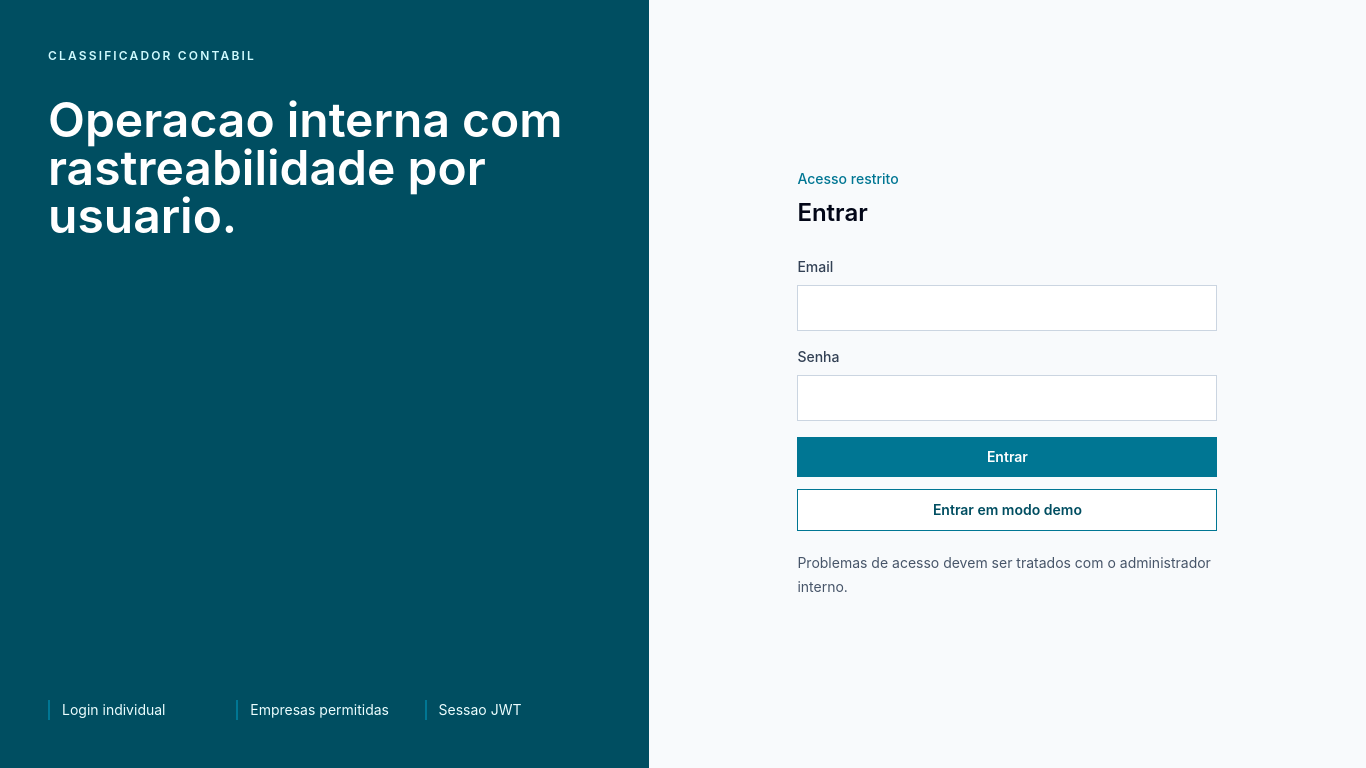
Scenario: LoginPage › exibe orientacao para erro de rede
Type "operador@interno.test" into the field labelled "Email" at (1007, 308), box [797,285,1217,331]
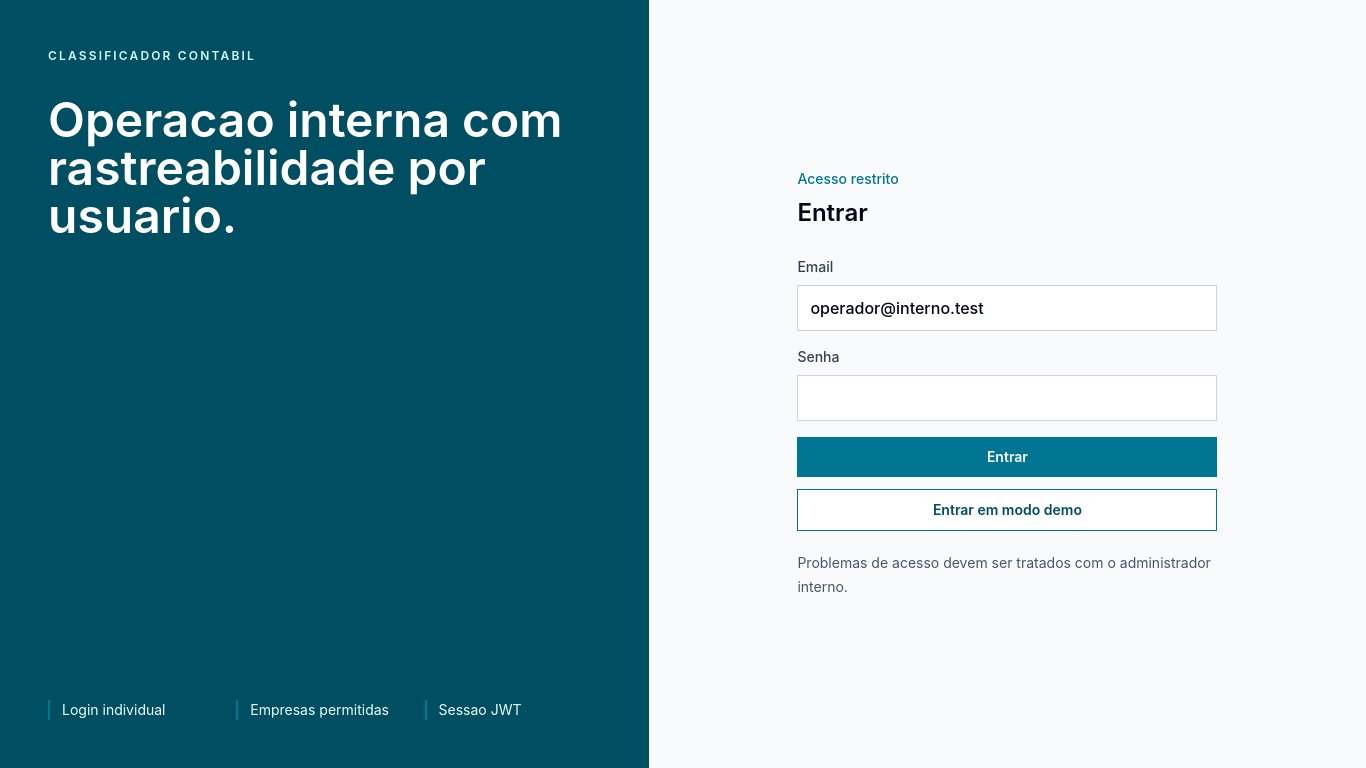
Type "senha-segura" into the password field labelled "Senha" at (1007, 398), box [797,375,1217,421]
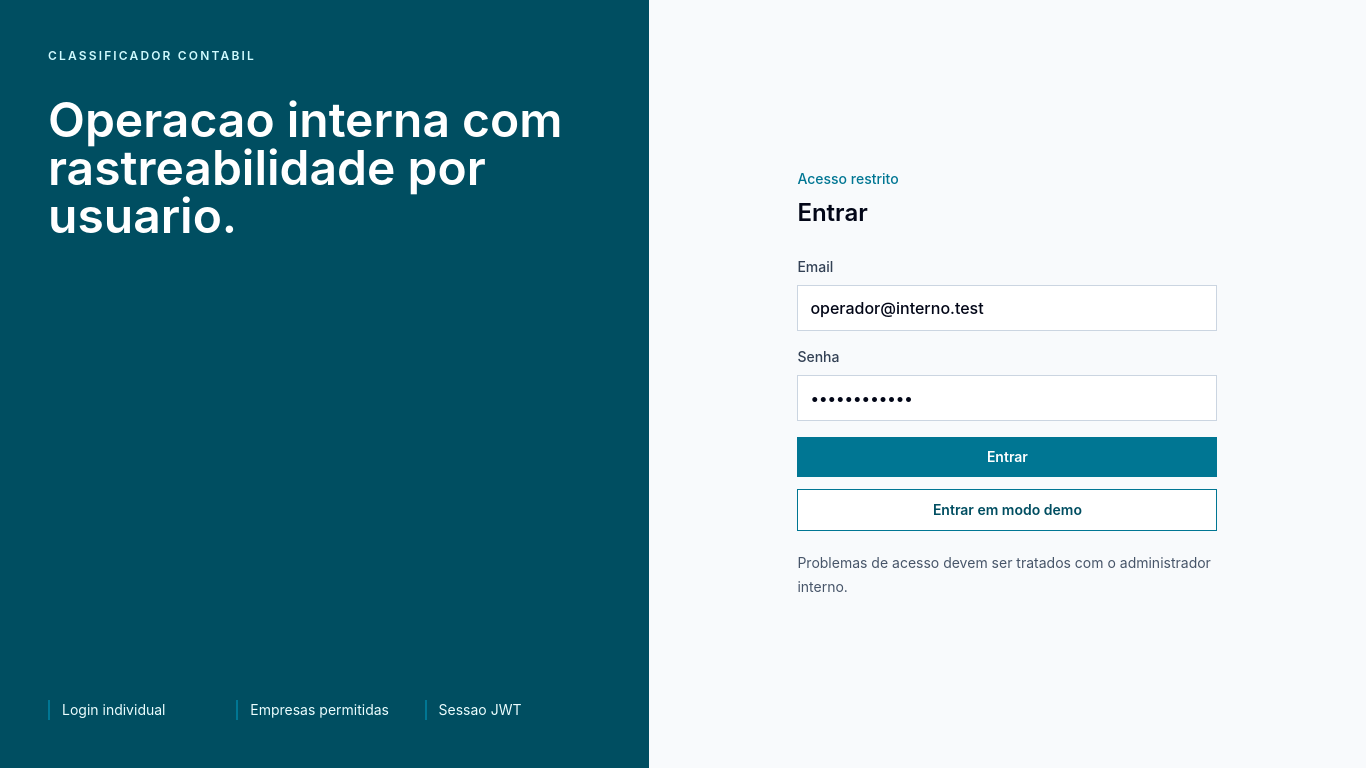
Click the button "Entrar" at (1007, 457), box [797,437,1217,477]
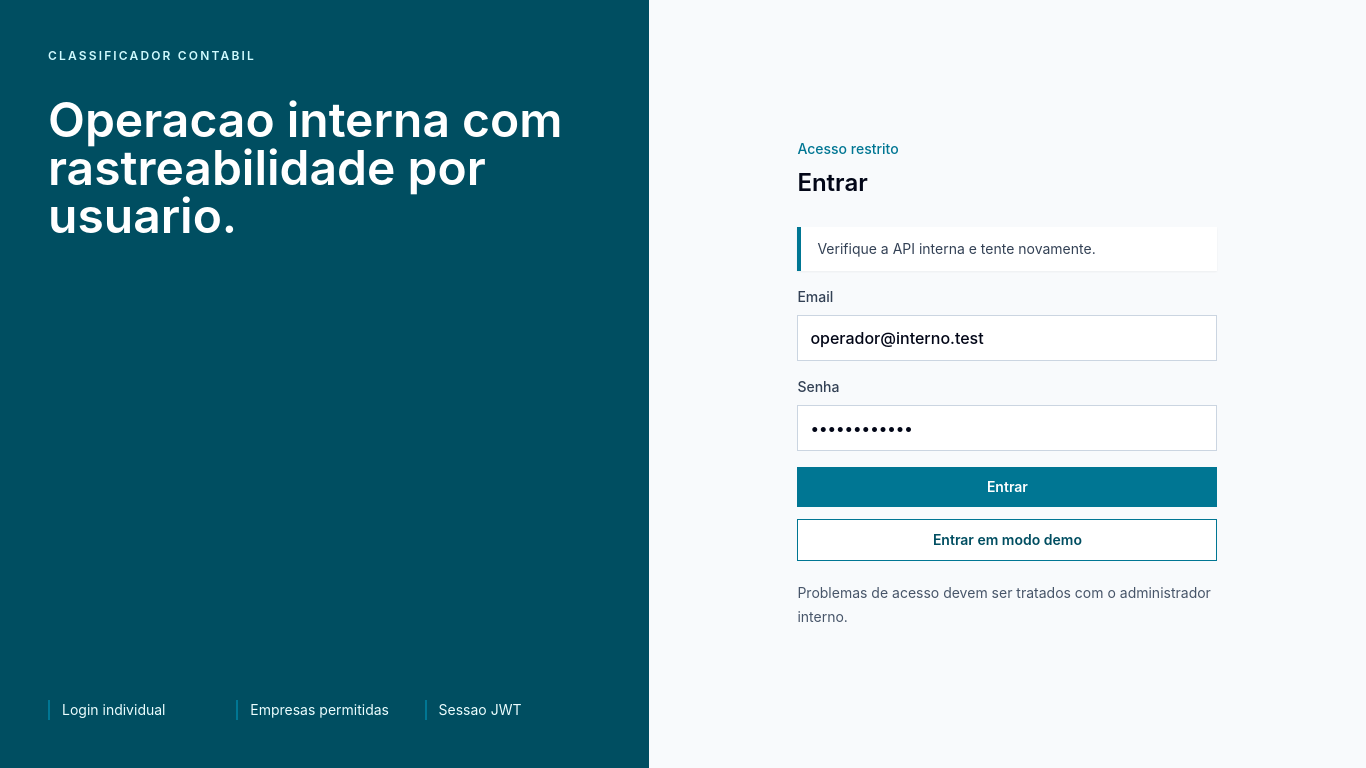
Check: the text "Verifique a API interna e tente novamente." is shown, box [797,227,1217,271]
